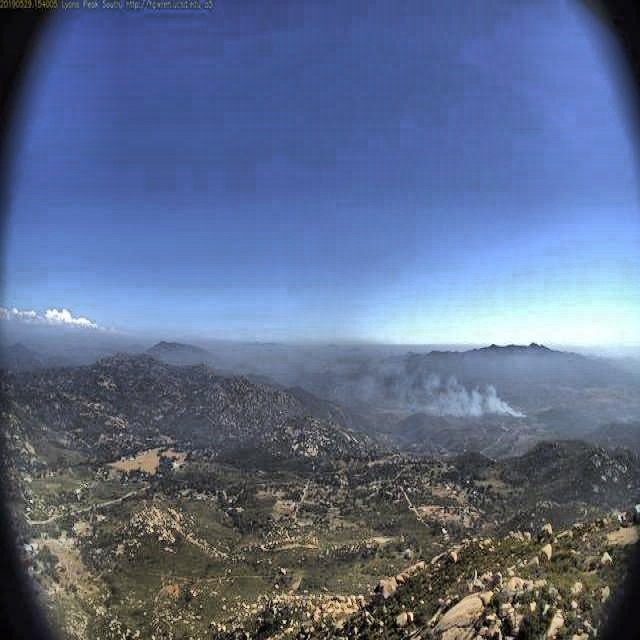smoke: (347, 360, 527, 425)
